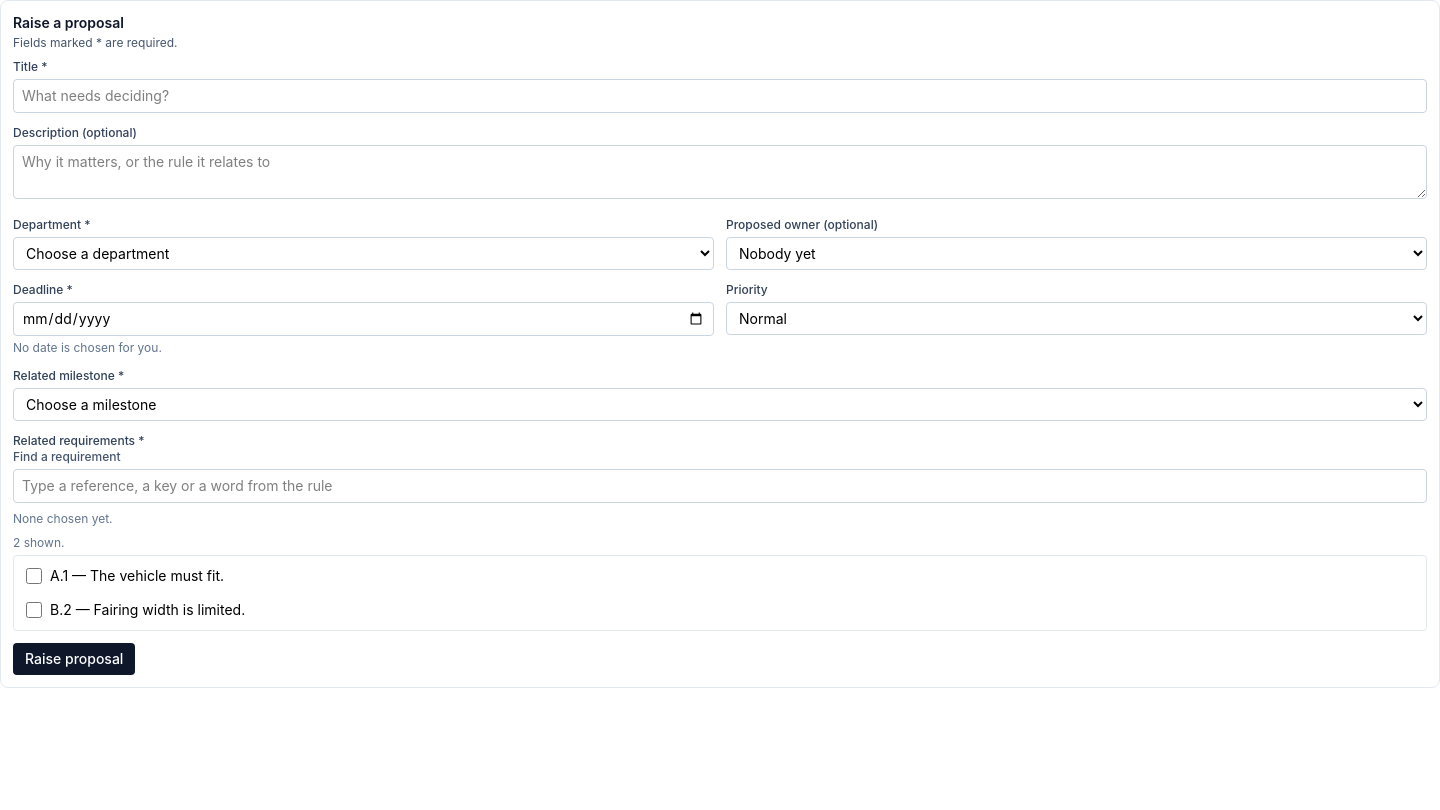
Test case: each required field refuses on its own › missing title
Type "  Mount the wing  " into the field labelled "Title *" at (720, 96), box 13,79 -> 1427,113
Select "Aerodynamics" in the dropdown labelled "Department *" at (364, 254), box 13,237 -> 714,270
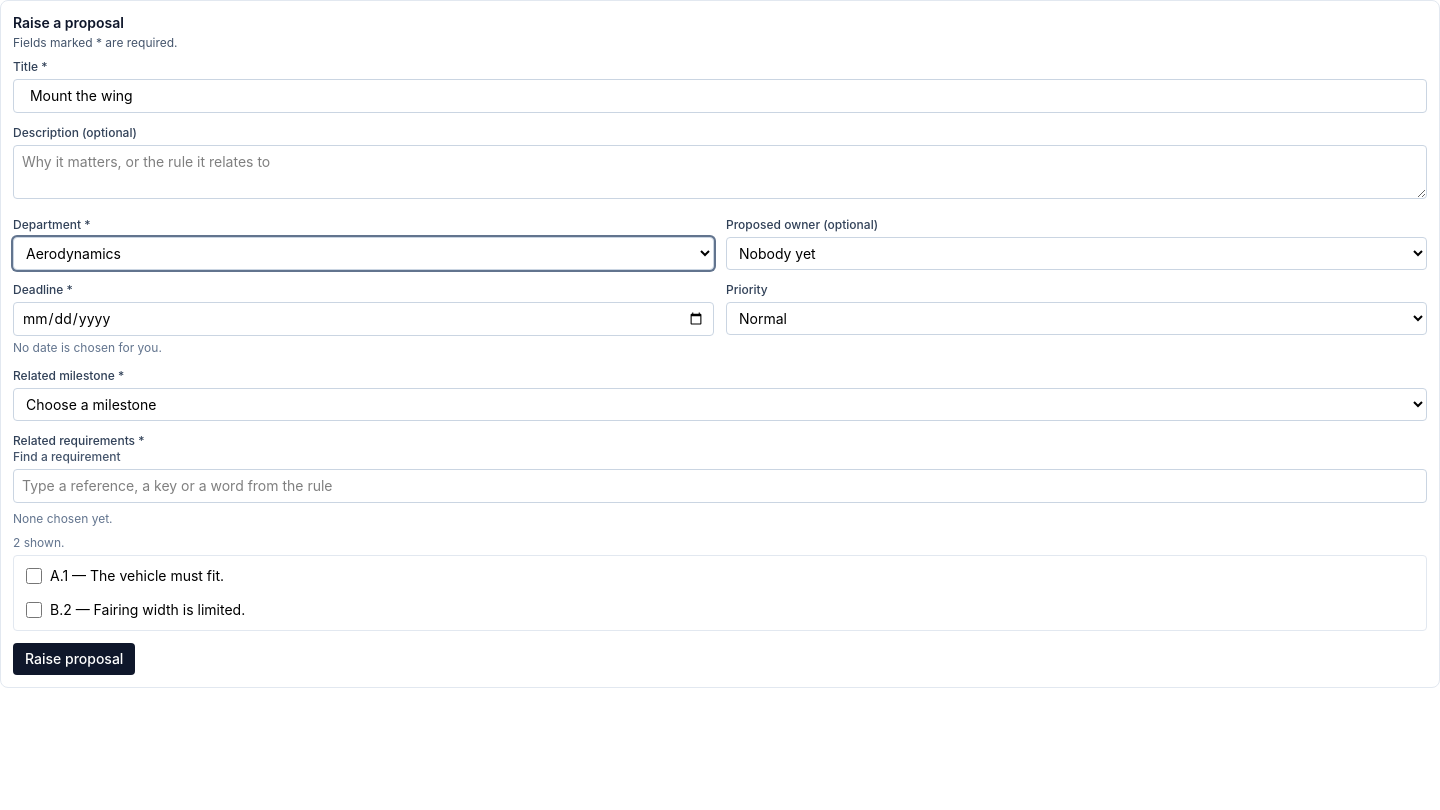
Type "2026-12-01" into the date field labelled "Deadline *" at (364, 319), box 13,302 -> 714,336
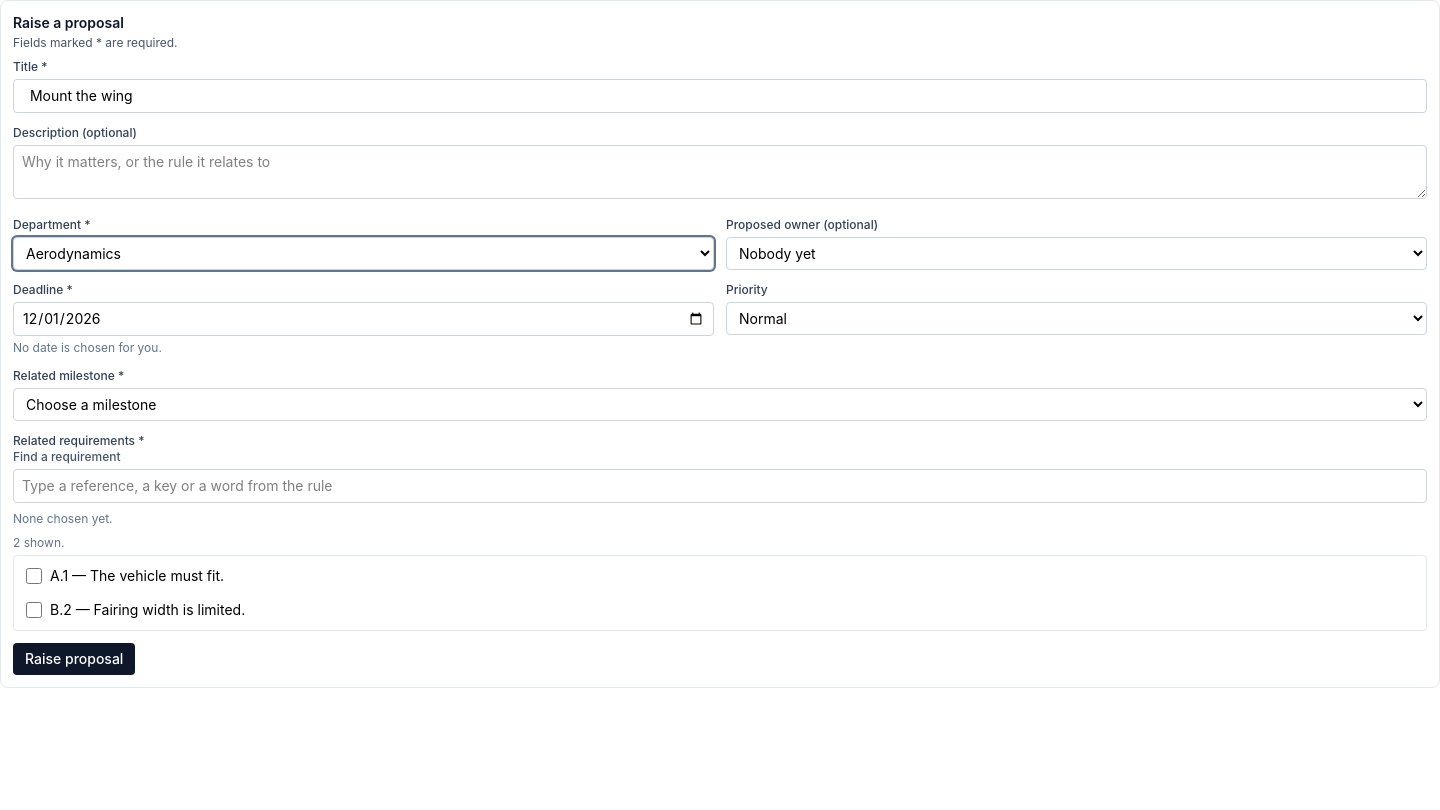
Select "MS1 — Team plan" in the dropdown labelled "Related milestone *" at (720, 404), box 13,388 -> 1427,421
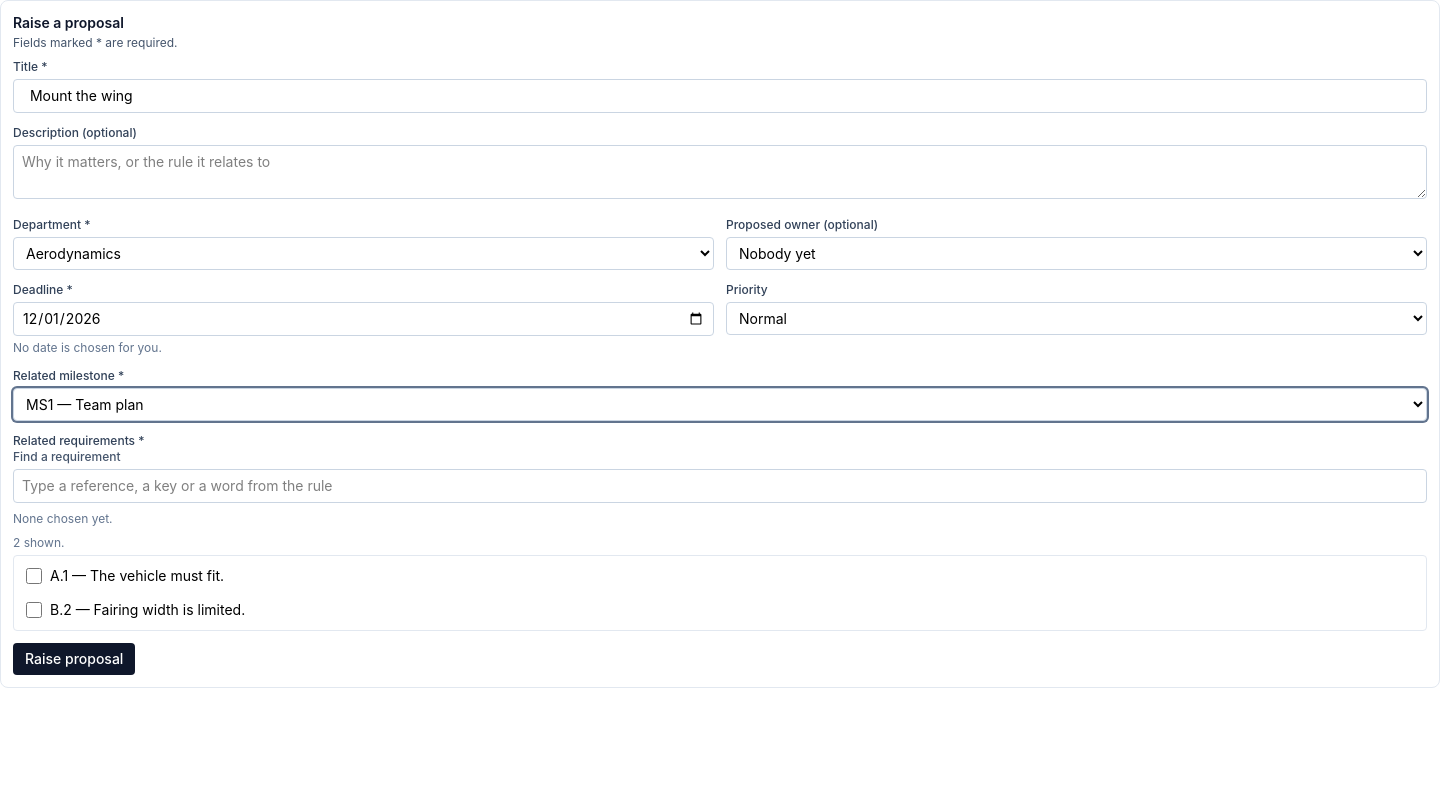
Click the checkbox labelled "A.1 — The vehicle must fit." at (34, 576), box 26,568 -> 42,584
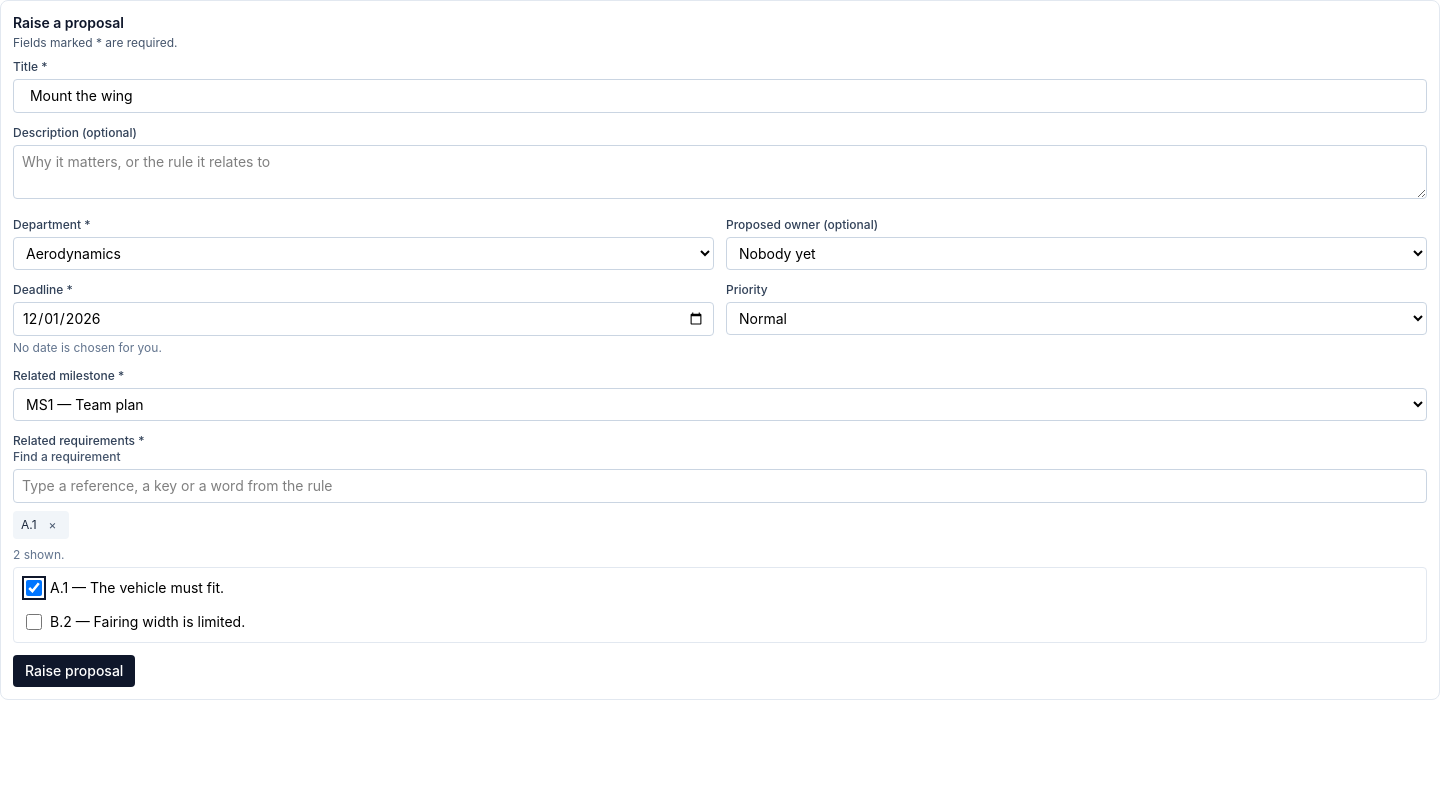
Clear the field labelled "Title *" at (720, 96), box 13,79 -> 1427,113
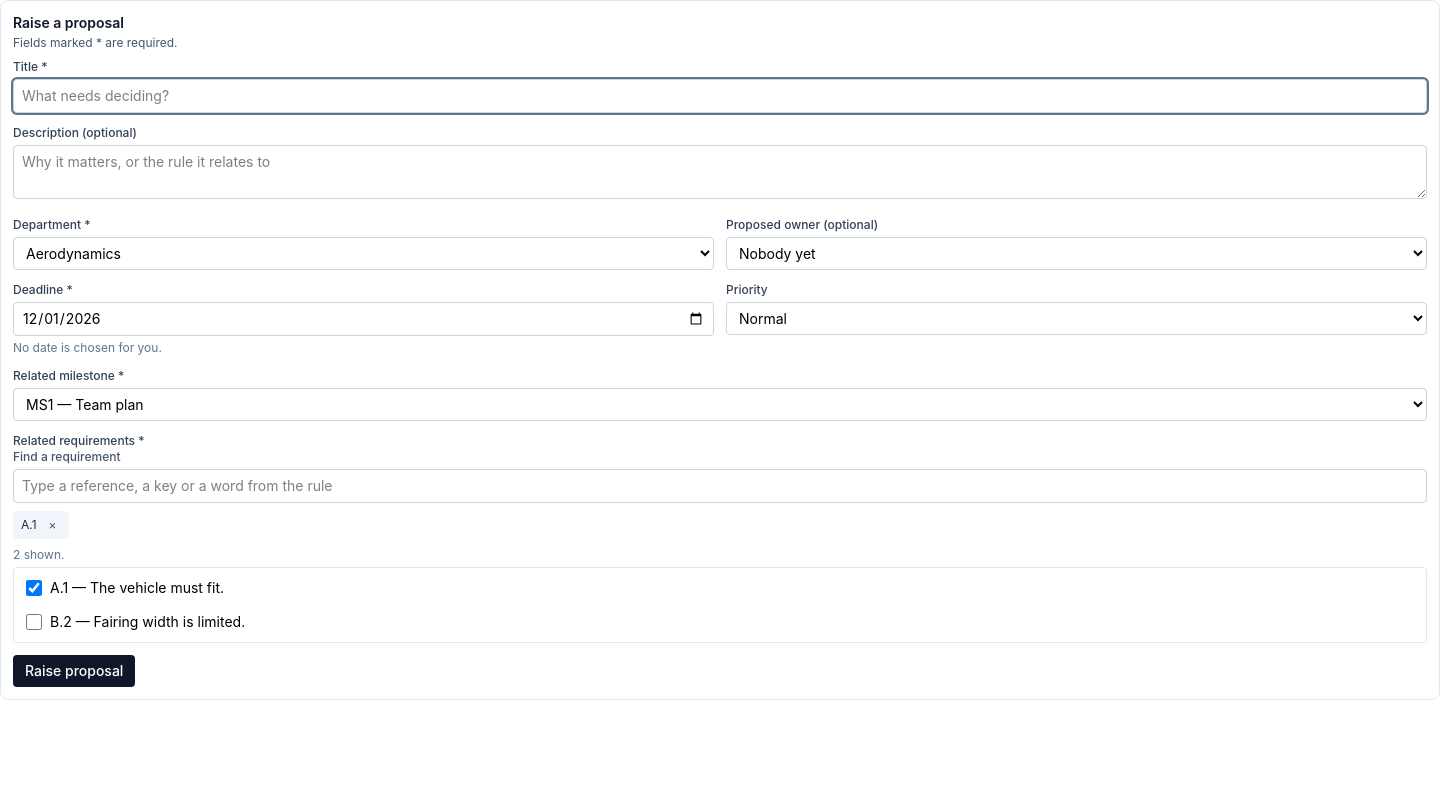
Click the button "Raise proposal" at (74, 671), box 13,655 -> 135,687
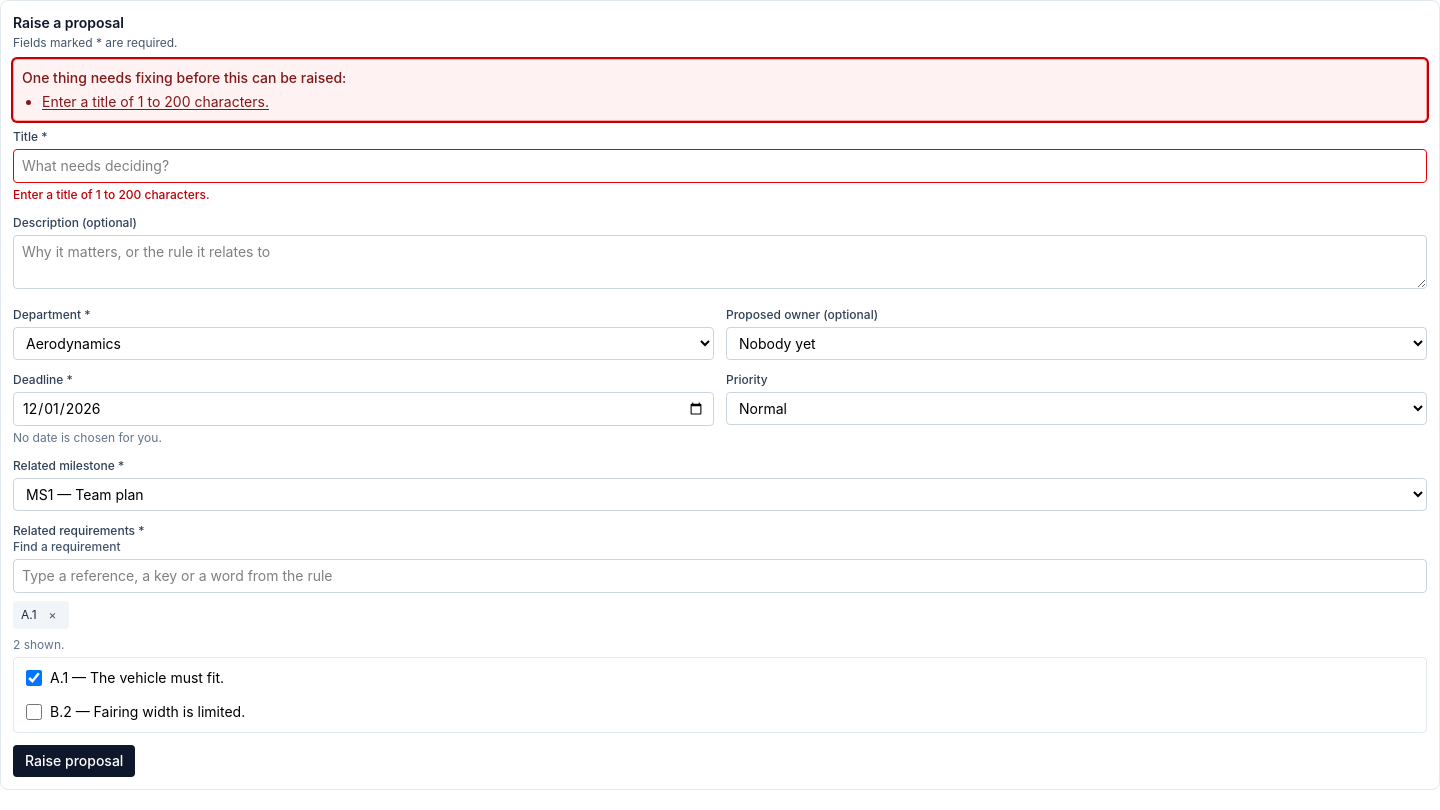
Check: the message with test id "proposal-summary" shows "One thing needs fixing", box 22,69 -> 173,86
